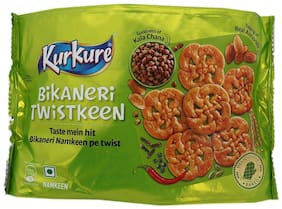kurkure: (29, 37, 126, 82)
plastic: (21, 19, 270, 199)
wrapper: (32, 87, 254, 195)
